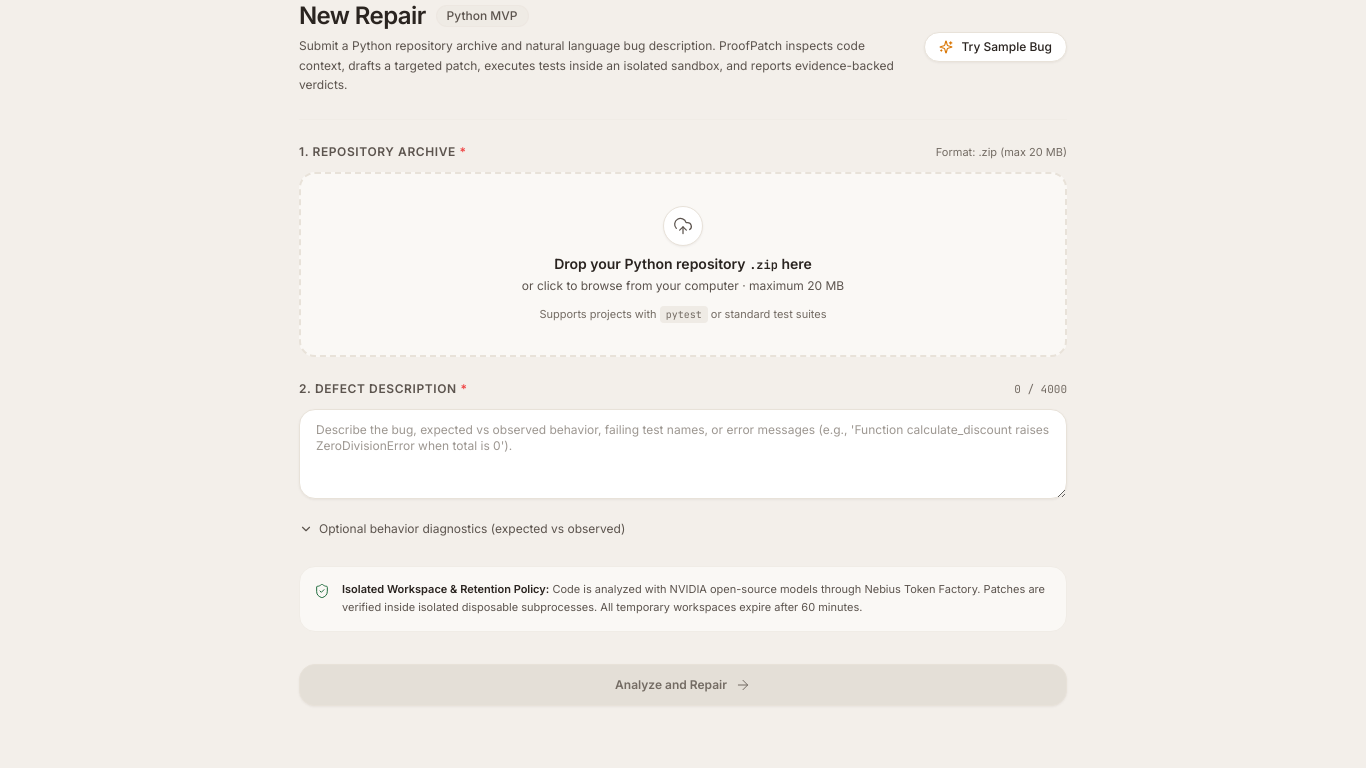
Test: NewRepairPage › handles Try Sample Bug success flow
What coordinates should you click on to do the following:
click the button "Try Sample Bug"
I would click on:
 (996, 47)
Its box is top-left (924, 32), bottom-right (1067, 62).
(page scrolled)
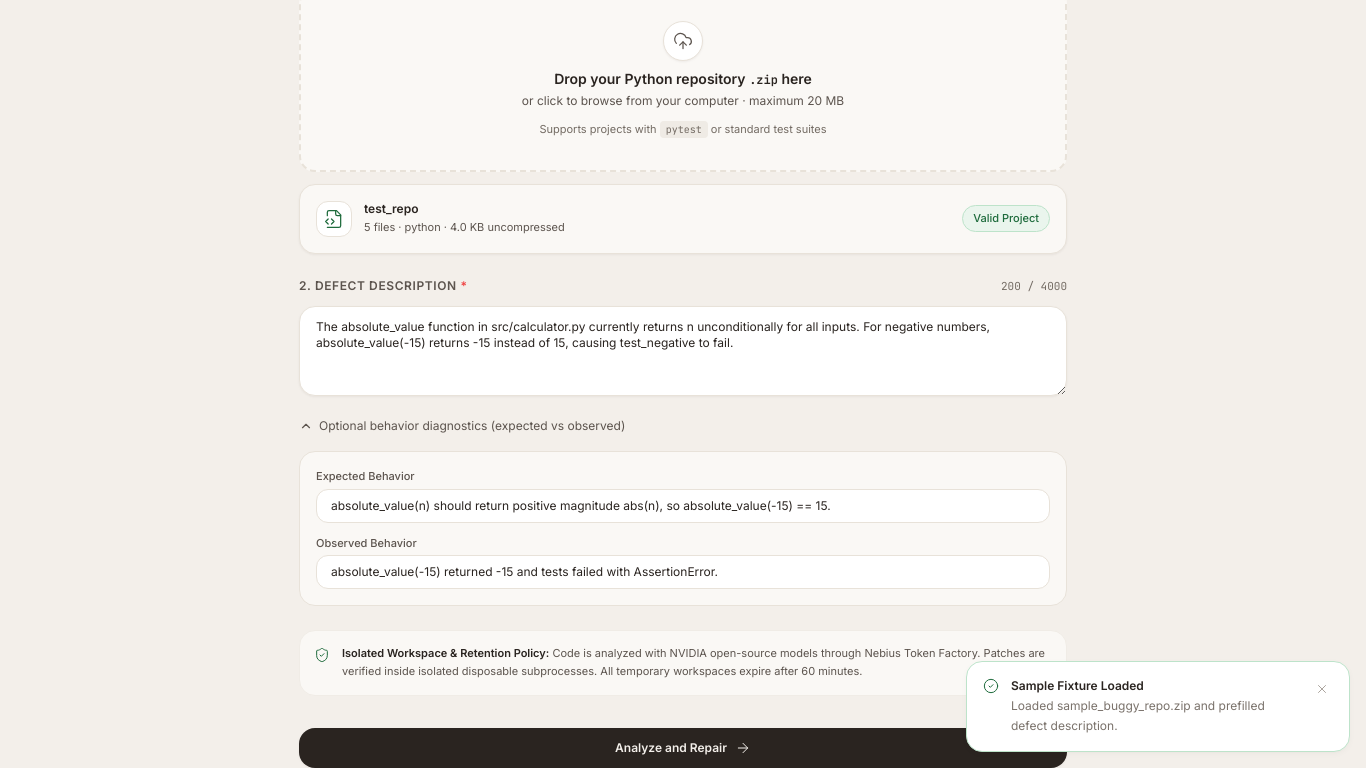
Now the text box "absolute_value function" is shown, box top-left (299, 306), bottom-right (1067, 396)
Now the field labelled "Expected Behavior" is shown, box top-left (316, 488), bottom-right (1050, 522)
Now the button "Analyze and Repair" is enabled, box top-left (299, 728), bottom-right (1067, 767)
